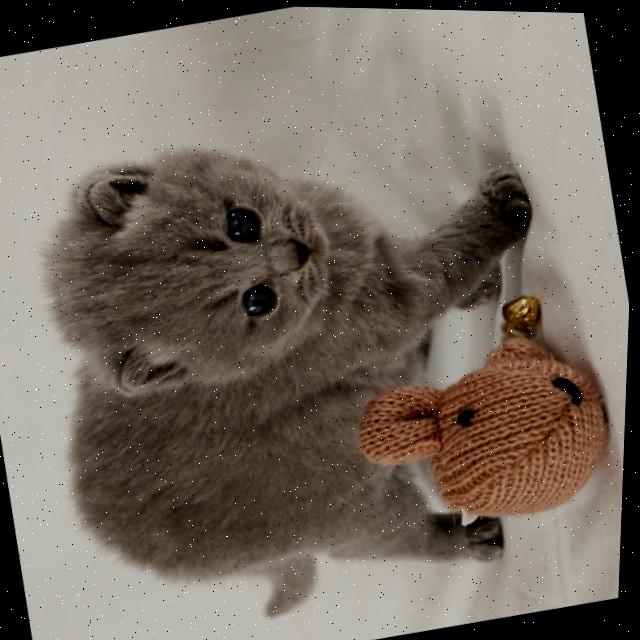Scottish Fold: (1, 73, 610, 640)
